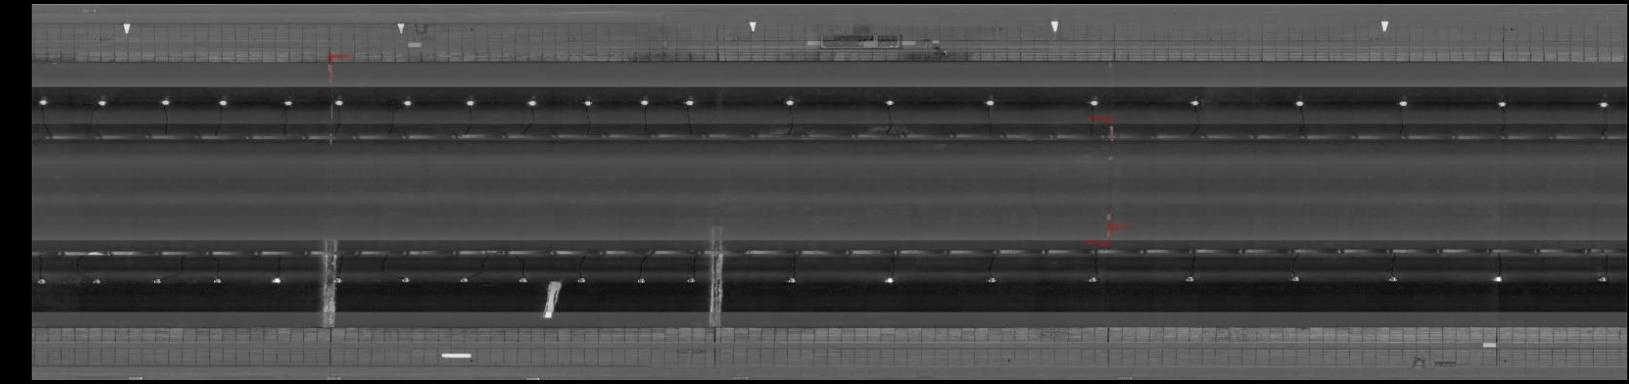light: (878, 272, 901, 287), (778, 95, 803, 109), (1592, 271, 1612, 286), (1382, 272, 1403, 287), (1178, 272, 1200, 286), (1081, 95, 1104, 109), (981, 273, 1002, 287), (1489, 271, 1507, 286), (454, 273, 474, 287), (979, 95, 999, 109), (1290, 95, 1309, 110), (1285, 272, 1305, 285), (878, 95, 898, 109), (781, 275, 802, 287), (87, 272, 104, 287), (1185, 95, 1204, 109), (1594, 98, 1613, 110), (1083, 275, 1102, 287), (523, 95, 542, 108), (35, 273, 51, 289), (267, 273, 285, 286), (1493, 98, 1514, 109), (1393, 97, 1412, 109), (94, 95, 112, 108), (213, 95, 232, 108), (398, 95, 417, 108), (636, 95, 653, 108), (208, 274, 225, 286), (513, 275, 532, 286), (156, 95, 175, 107), (572, 274, 588, 287), (683, 275, 699, 287), (634, 275, 650, 287), (580, 95, 596, 108), (35, 95, 52, 108), (462, 95, 479, 108), (398, 275, 413, 287), (149, 275, 164, 287), (279, 95, 295, 108), (680, 95, 698, 106), (331, 95, 348, 106), (332, 275, 347, 286)
